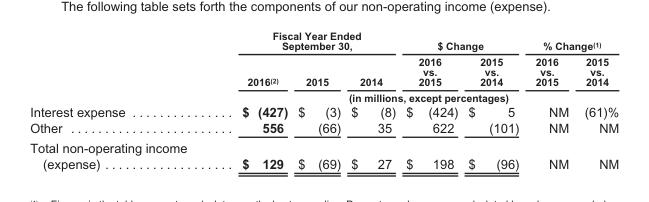table: (29, 29, 618, 170)
table column: (29, 29, 213, 170), (213, 29, 292, 170), (462, 29, 526, 170), (400, 29, 462, 170), (345, 29, 400, 170), (292, 29, 345, 170), (526, 29, 575, 170), (575, 29, 618, 170)
table column header: (29, 29, 618, 103)
table row: (29, 53, 618, 89), (29, 137, 618, 170), (29, 29, 618, 53), (29, 119, 618, 137), (29, 103, 618, 119), (29, 89, 618, 103)
table spanning cell: (213, 89, 618, 103), (213, 29, 400, 53), (400, 29, 526, 53), (526, 29, 618, 53)
